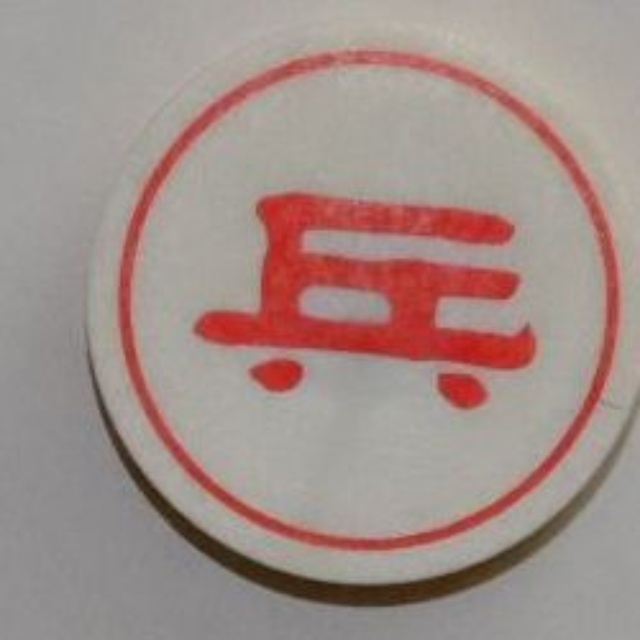red_chot: (92, 19, 640, 593)
